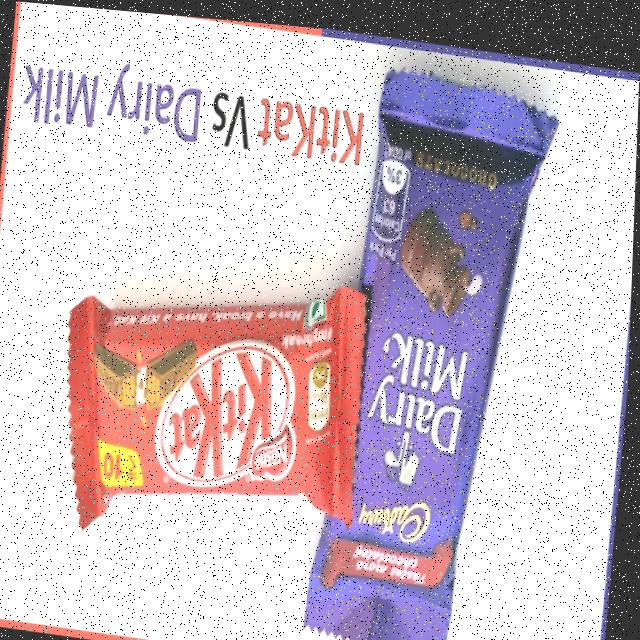kitkat: (51, 246, 372, 562)
